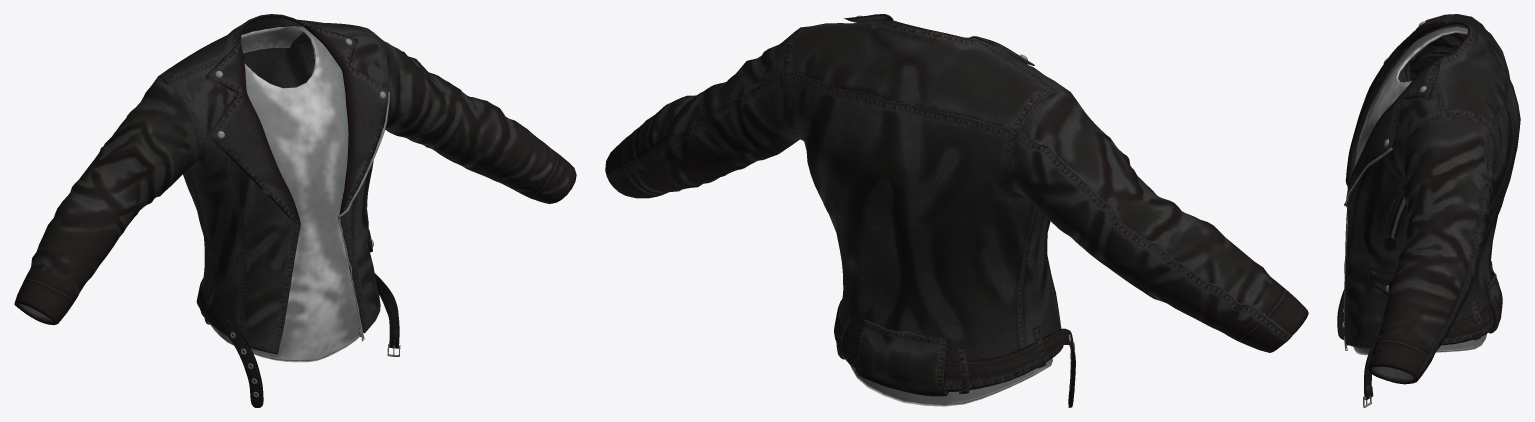
File: leather-jacket.glb
3 renders of one model, left to right at view 1: azimuth 30°, elevation 25°; view 2: azimuth 150°, elevation 25°; view 3: azimuth 270°, elevation 25°, orthographic. The views are drawn at different scales.
Parts seen in each view (by area): view 1: jacket_low, Shirt_low, Belt_low; view 2: jacket_low, LeatherBacking_low, Belt_low, Shirt_low, BeltLoops_low; view 3: jacket_low, Shirt_low, Belt_low, LeatherBacking_low, Pocket_low, BeltLoops_low.
Boxes of the visible parts, x1,y1,x2,y2 form: jacket_low: (14,14,576,354); Shirt_low: (210,26,359,362); Belt_low: (196,273,399,407); jacket_low: (605,14,1308,391); LeatherBacking_low: (855,318,951,396); Belt_low: (834,299,1075,407); Shirt_low: (850,358,1052,406); BeltLoops_low: (836,298,1046,394); jacket_low: (1343,14,1520,384); Shirt_low: (1353,26,1486,355); Belt_low: (1337,274,1494,399); LeatherBacking_low: (1485,261,1502,333); Pocket_low: (1367,266,1395,295); BeltLoops_low: (1471,300,1482,340).
Bounding box in the file's own units: 2 × 1.15 × 0.5585.
Materials: 1 (1 with a texture image).
